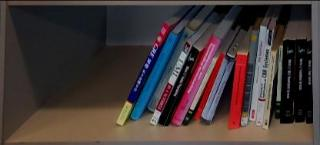book-spine: (116, 22, 170, 127), (170, 34, 222, 128), (144, 25, 196, 114), (129, 30, 178, 123), (149, 41, 192, 127), (158, 45, 200, 129), (182, 58, 218, 127), (194, 52, 226, 121), (204, 57, 236, 126), (199, 55, 229, 123), (255, 29, 274, 128), (248, 25, 267, 122), (240, 29, 258, 127), (227, 54, 247, 131), (262, 50, 277, 130), (281, 39, 295, 124), (295, 39, 306, 123), (305, 40, 313, 124), (275, 45, 283, 119)
